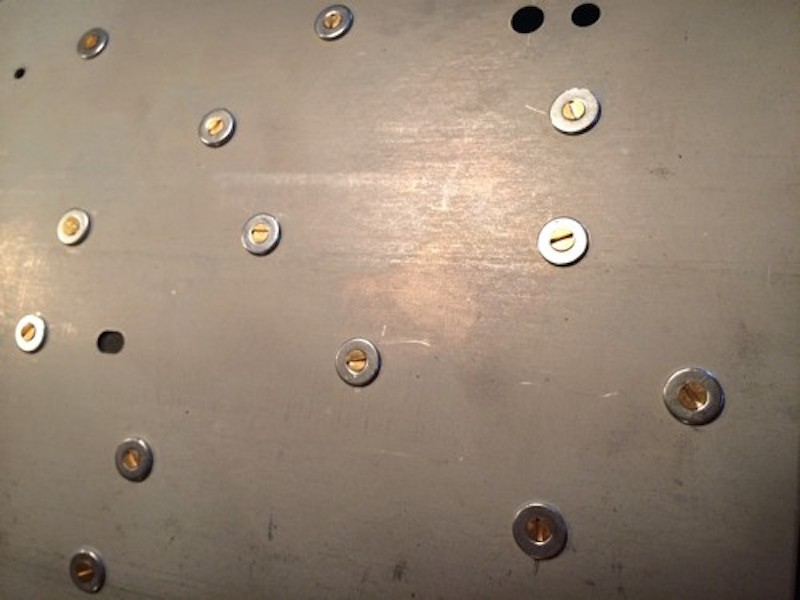hole: (508, 4, 547, 38), (95, 326, 129, 358), (568, 3, 604, 32), (11, 65, 31, 83)
screw: (658, 364, 728, 429), (509, 500, 570, 566), (534, 213, 592, 269), (330, 335, 385, 389), (547, 86, 604, 137), (65, 546, 114, 598), (238, 210, 286, 258), (112, 435, 157, 486), (195, 105, 239, 152), (310, 4, 358, 44), (55, 206, 95, 249), (13, 312, 50, 356), (73, 26, 112, 62)
